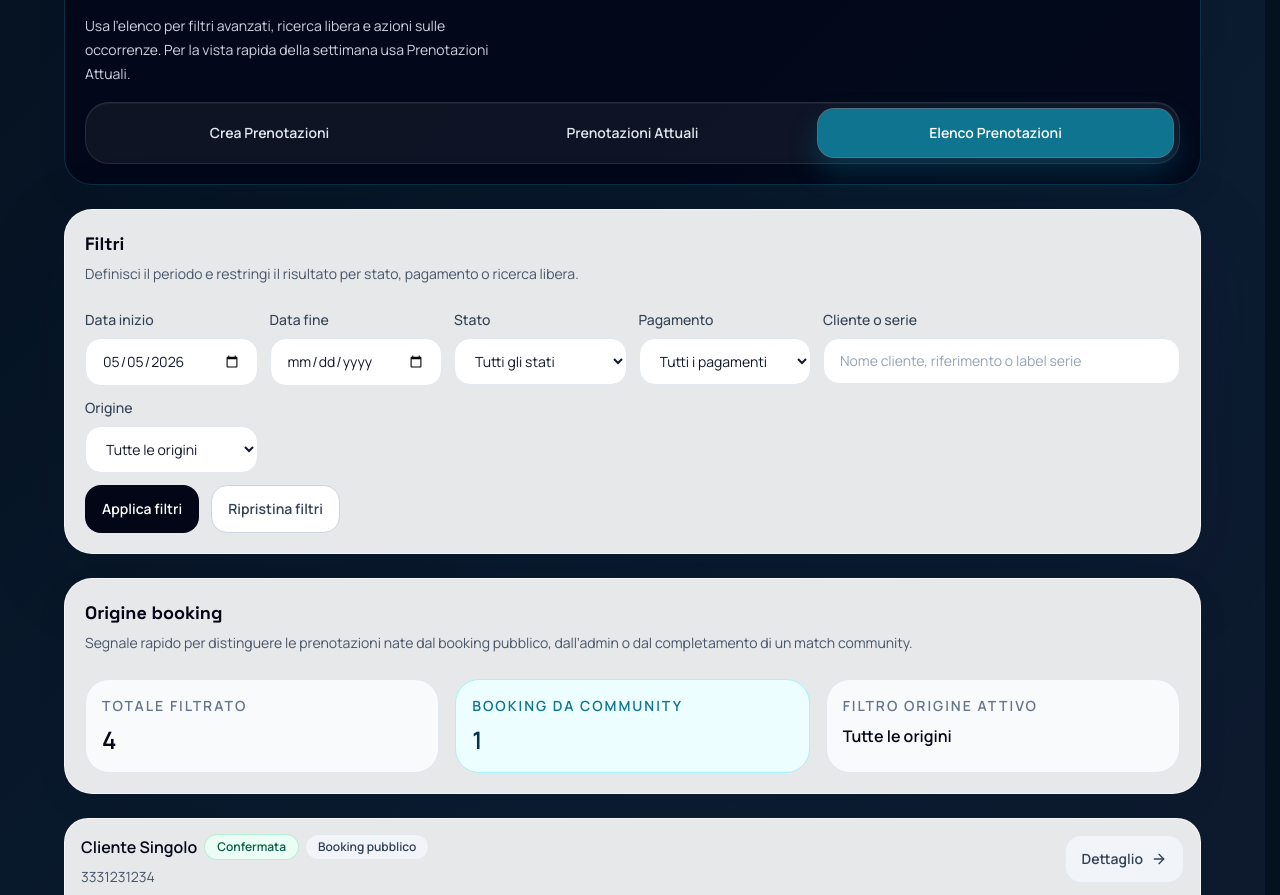
Scenario: AdminBookingsPage › marks and filters bookings originating from /play
(page scrolled)
Expected: the text "Booking da community" is shown, [472, 696, 683, 715]
Select "Solo booking da community" in the dropdown labelled "Origine" at (171, 449), box [85, 426, 258, 473]
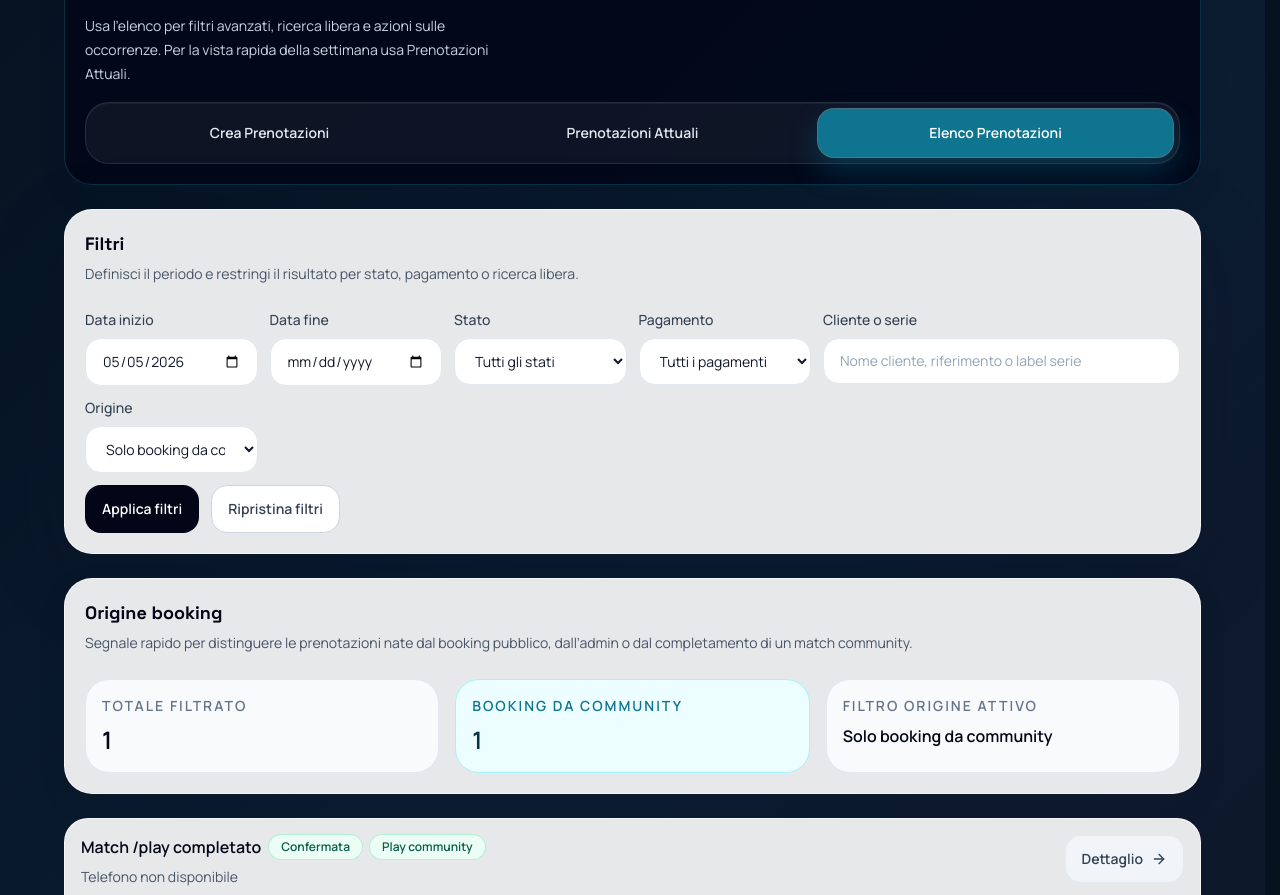
Expected: the text "Match /play completato" is shown, [81, 835, 261, 859]
Result: the text "Cliente Singolo" is gone
